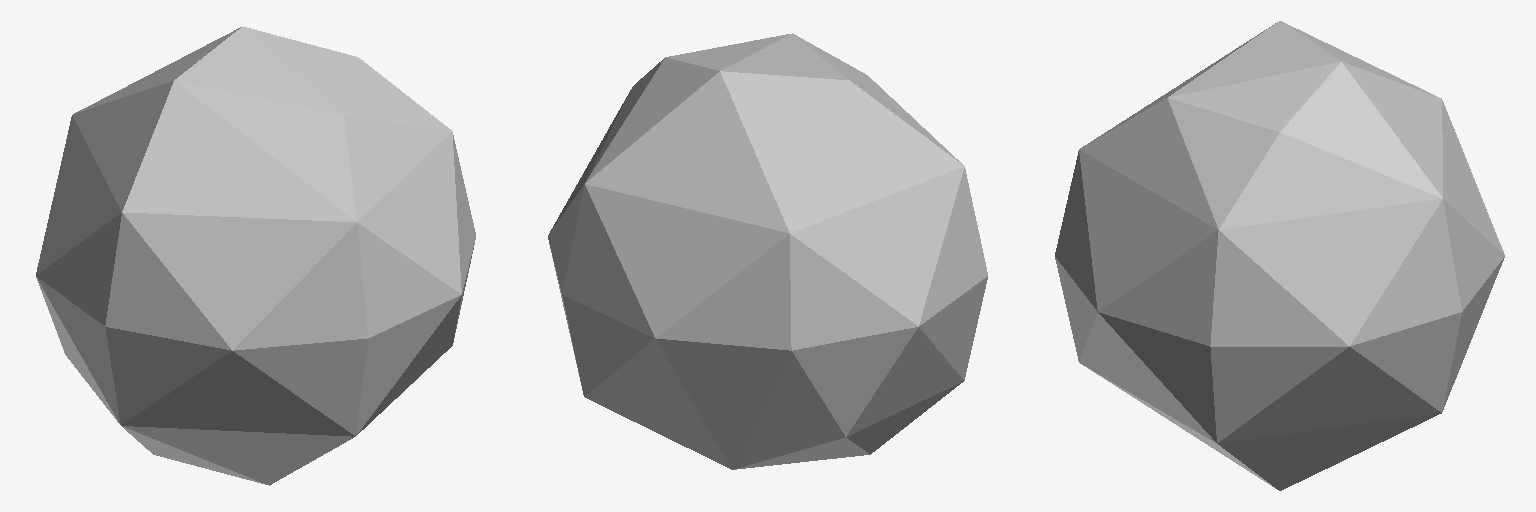
Rendered from smoke2.obj.
3 views of the same model, side by side, from view 1: azimuth 30°, elevation 25°; view 2: azimuth 150°, elevation 25°; view 3: azimuth 270°, elevation 25° (orthographic).
Visible parts, largest first — view 1: Icosphere_Icosphere.001; view 2: Icosphere_Icosphere.001; view 3: Icosphere_Icosphere.001.
Boxes of the visible parts, x1=… form: Icosphere_Icosphere.001: x1=36, y1=26, x2=475, y2=485; Icosphere_Icosphere.001: x1=548, y1=33, x2=987, y2=469; Icosphere_Icosphere.001: x1=1055, y1=21, x2=1504, y2=490.
Bounding box in the file's own units: 0.472 × 0.4935 × 0.4963.